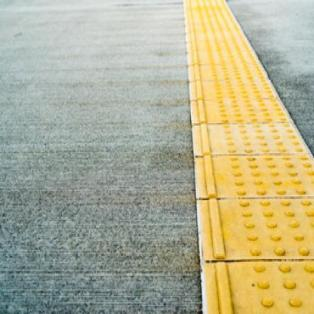Podoctatil: (154, 0, 314, 314)
